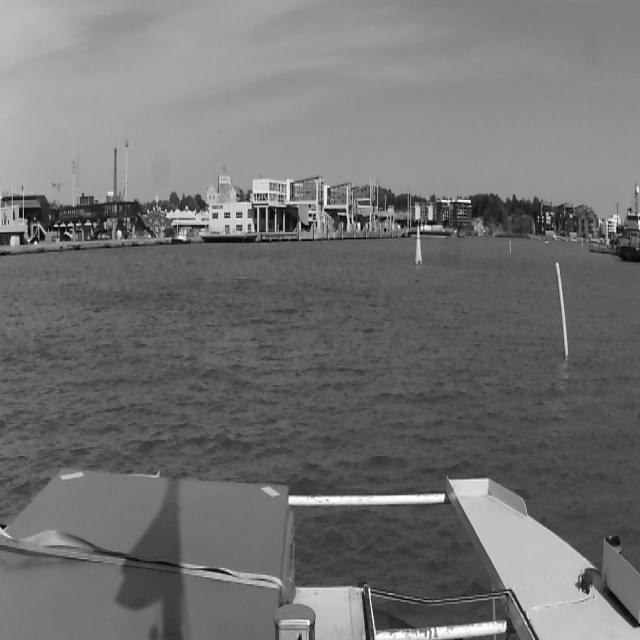buoy: (552, 258, 572, 364), (412, 223, 424, 268), (508, 239, 512, 257)
ship: (589, 182, 640, 258), (543, 240, 549, 244)
